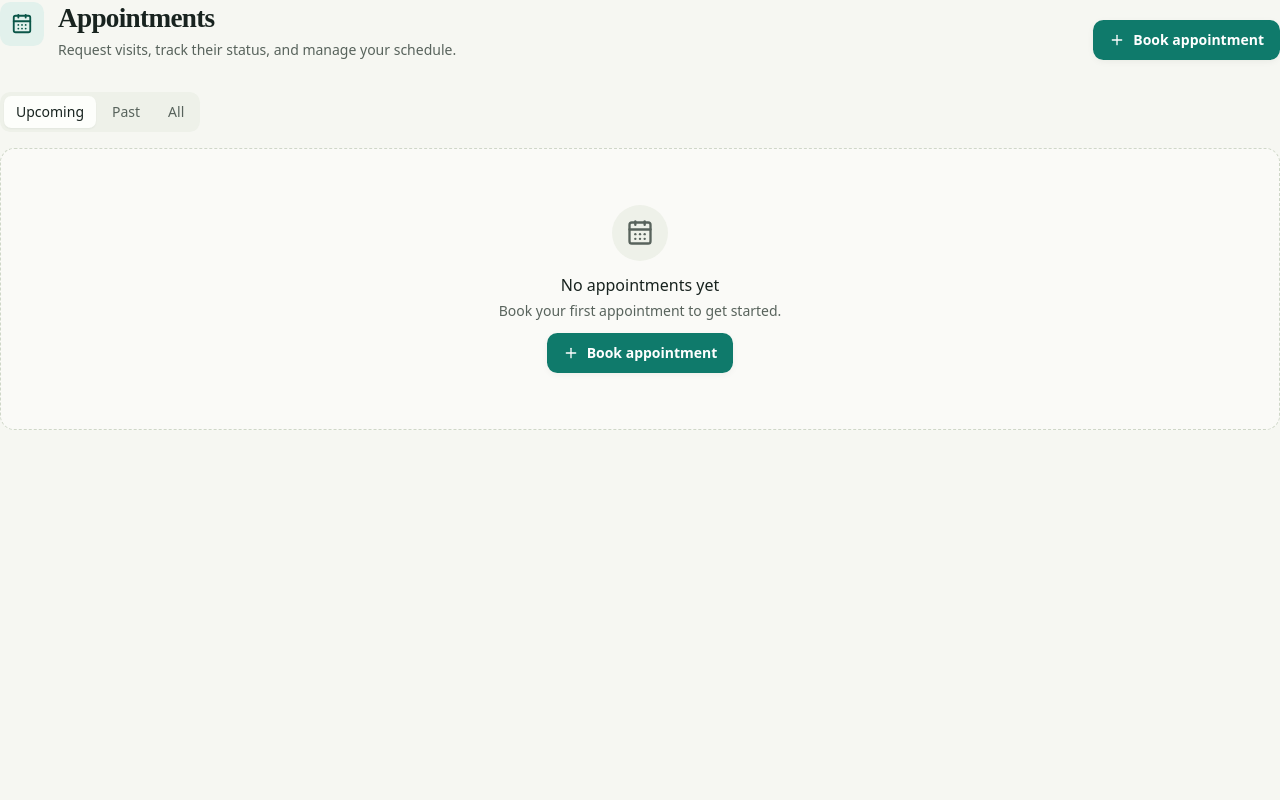
Test case: Booking an appointment from the doctor schedule › refetches the times after the slot is taken by someone else
Click the 1st button "Book appointment". click: [1187, 40]
box: [1093,20,1279,60]
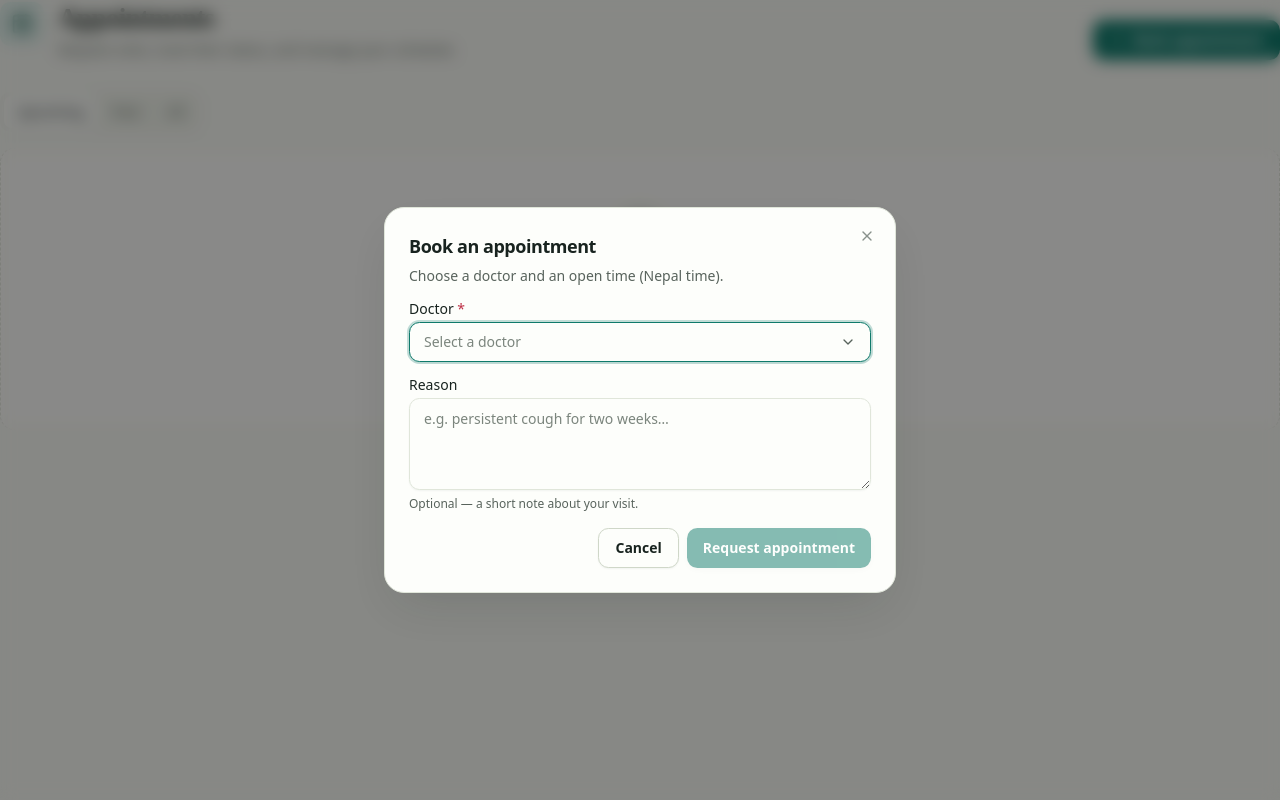
Click the dropdown. click: [473, 342]
box: [409,322,871,362]
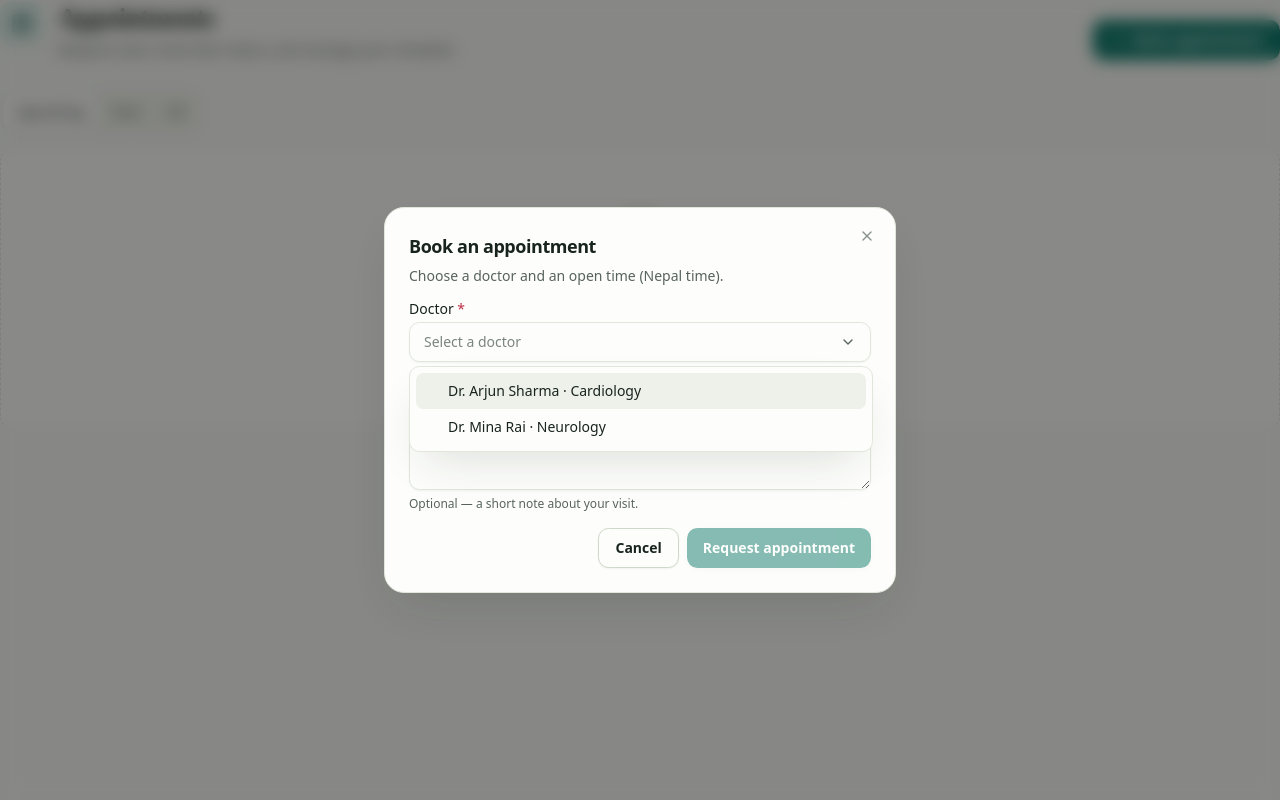
Click the option "Dr. Arjun Sharma · Cardiology". click: [641, 391]
box: [416,373,866,409]
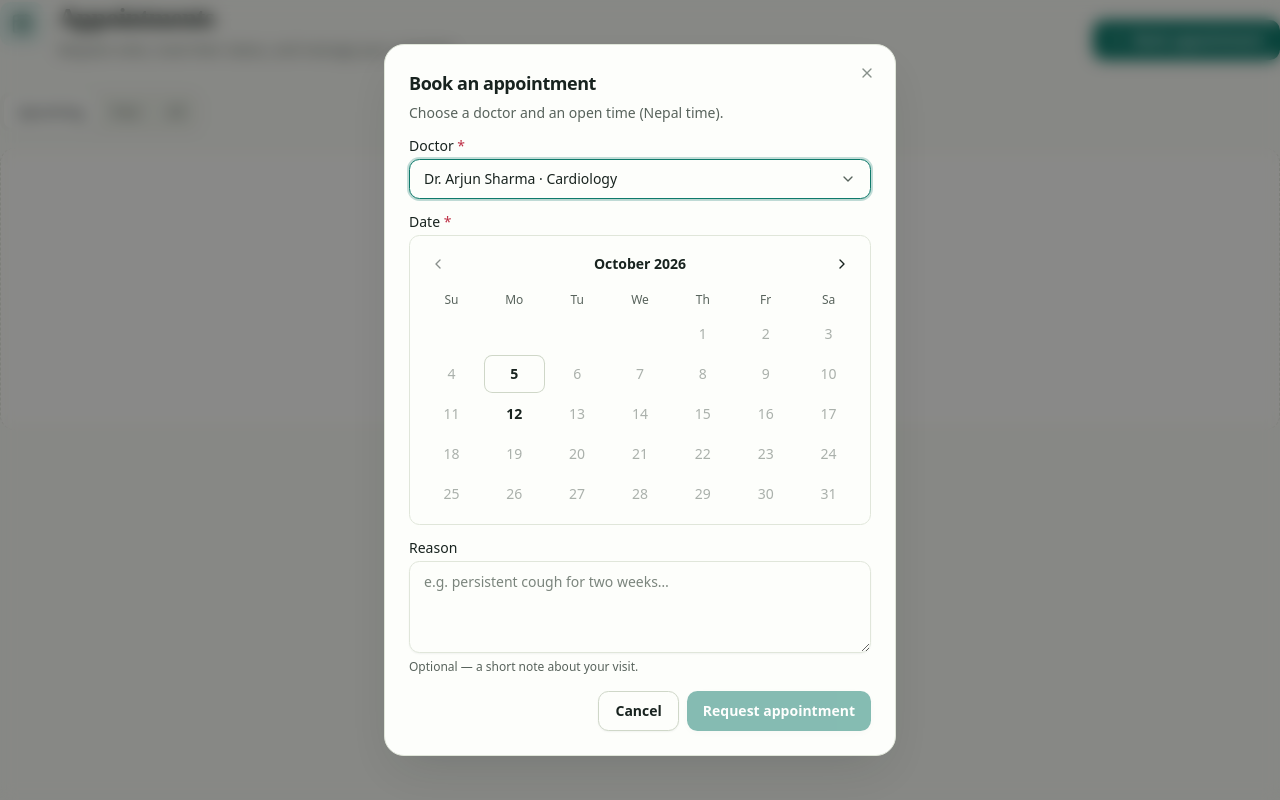
Click the button named "Monday, October 12, 2026". click: [514, 414]
box: [485,396,544,432]
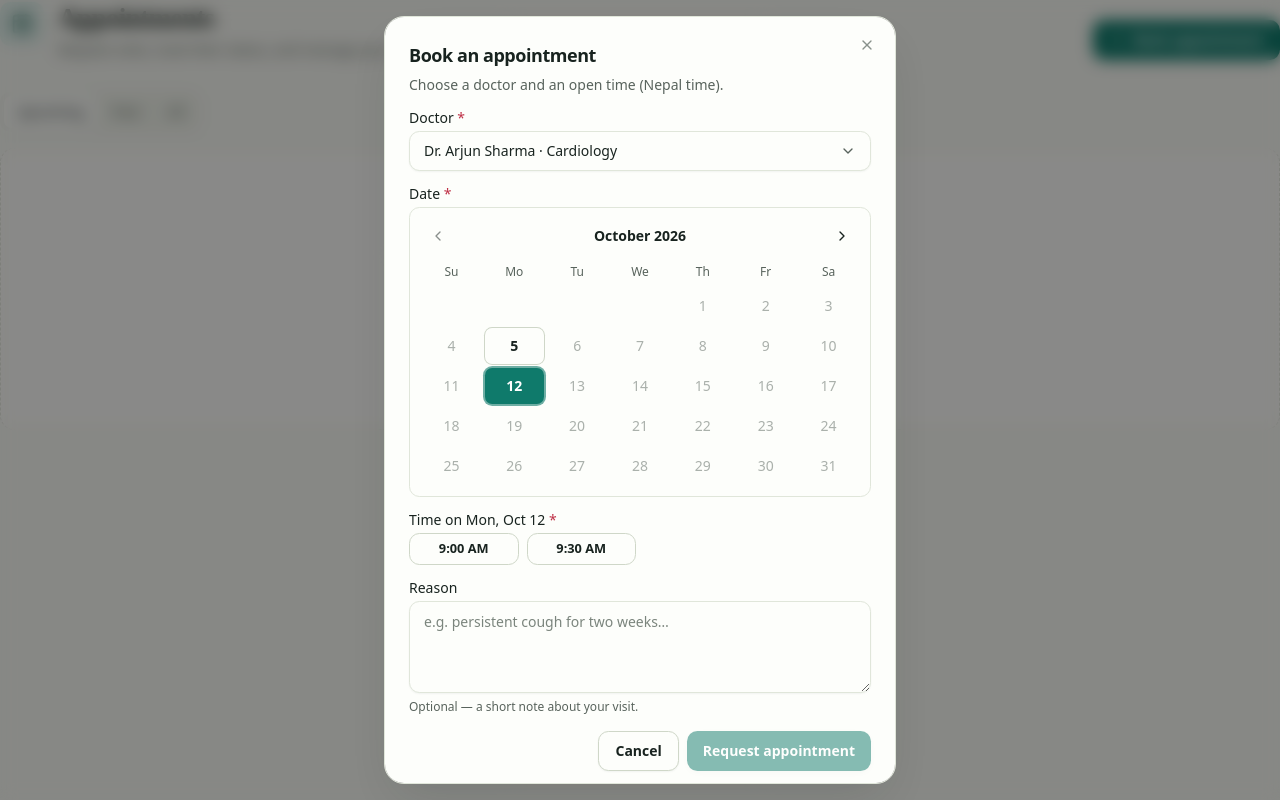
Click the button "9:30 AM". click: [581, 549]
box: [526,533,636,565]
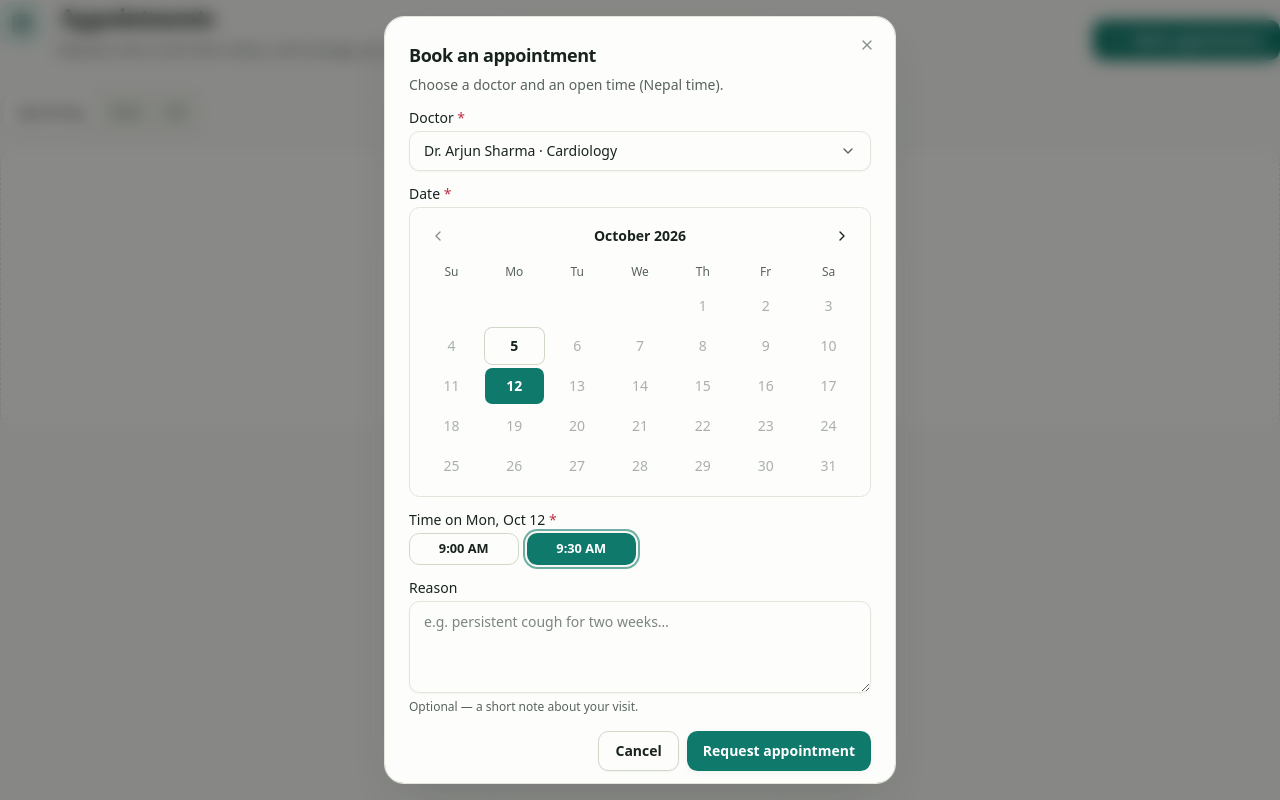
Click the button "Request appointment". click: [779, 751]
box: [687,731,871,771]
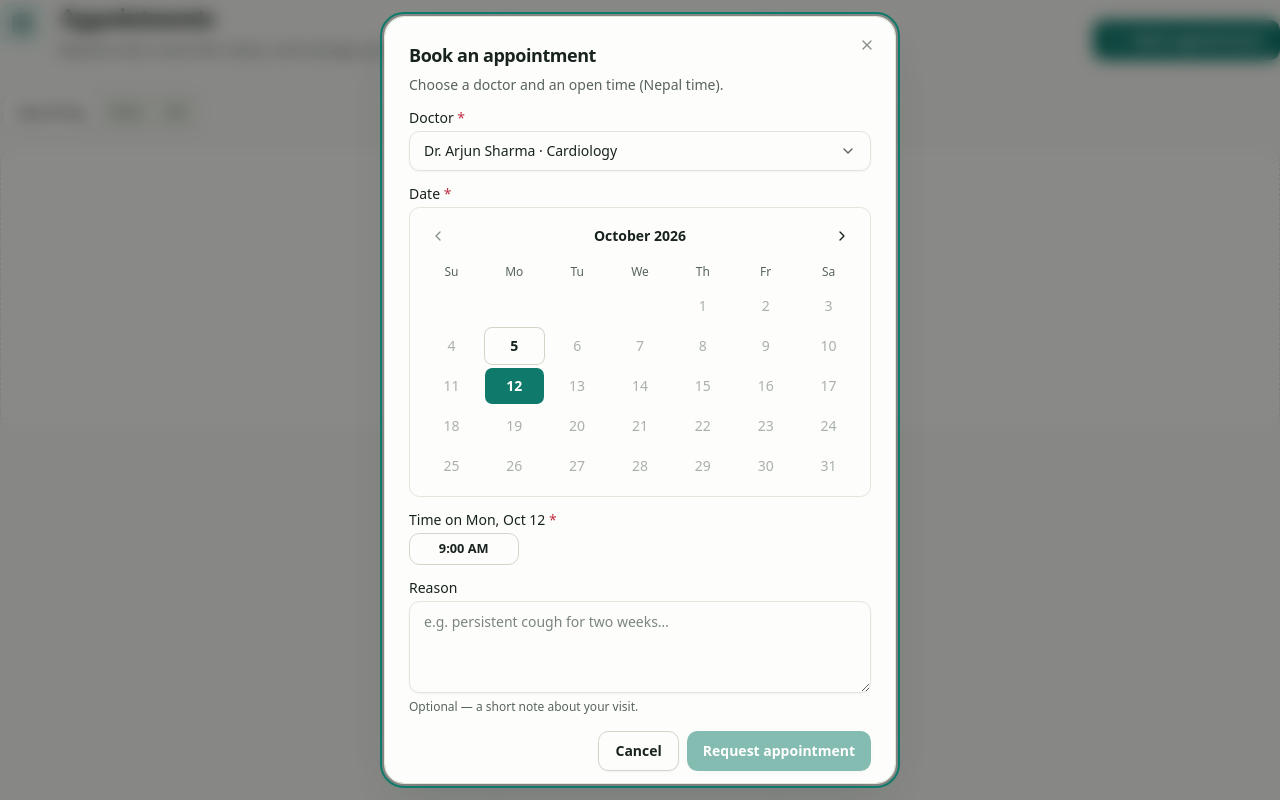
Expected: the button "9:30 AM" is gone
Expected: the button "Request appointment" is disabled, [687,731,871,771]
